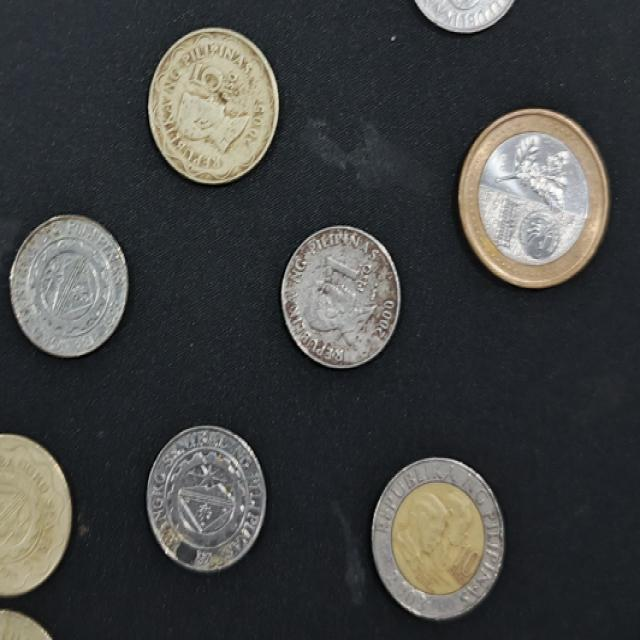10_peso: (372, 458, 500, 620)
1_peso: (282, 225, 399, 368), (147, 429, 263, 573), (11, 215, 128, 356)
20_peso: (460, 109, 609, 287)
5_peso: (149, 29, 278, 183), (0, 433, 71, 595)
